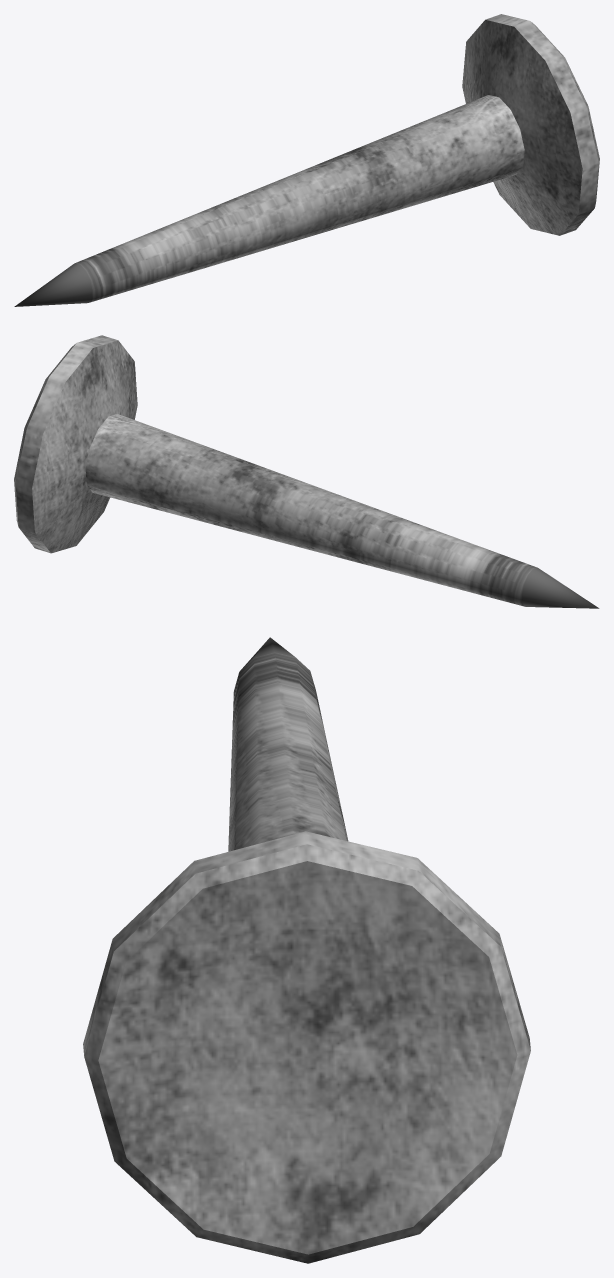
Rendered from PlateBois_projectile.obj.
3 views of the same model, one above another, from view 1: azimuth 30°, elevation 25°; view 2: azimuth 150°, elevation 25°; view 3: azimuth 270°, elevation 25° (orthographic). The views are drawn at different scales.
Parts seen in each view (by area): view 1: clou; view 2: clou; view 3: clou.
Boxes of the visible parts, box(x1,y1,x2,y2) form: clou: box(14, 14, 599, 306); clou: box(14, 335, 599, 608); clou: box(83, 637, 530, 1263).
Size of the model in its own units: 116 by 42.21 by 42.15.
Materials: 1 (1 with a texture image).
